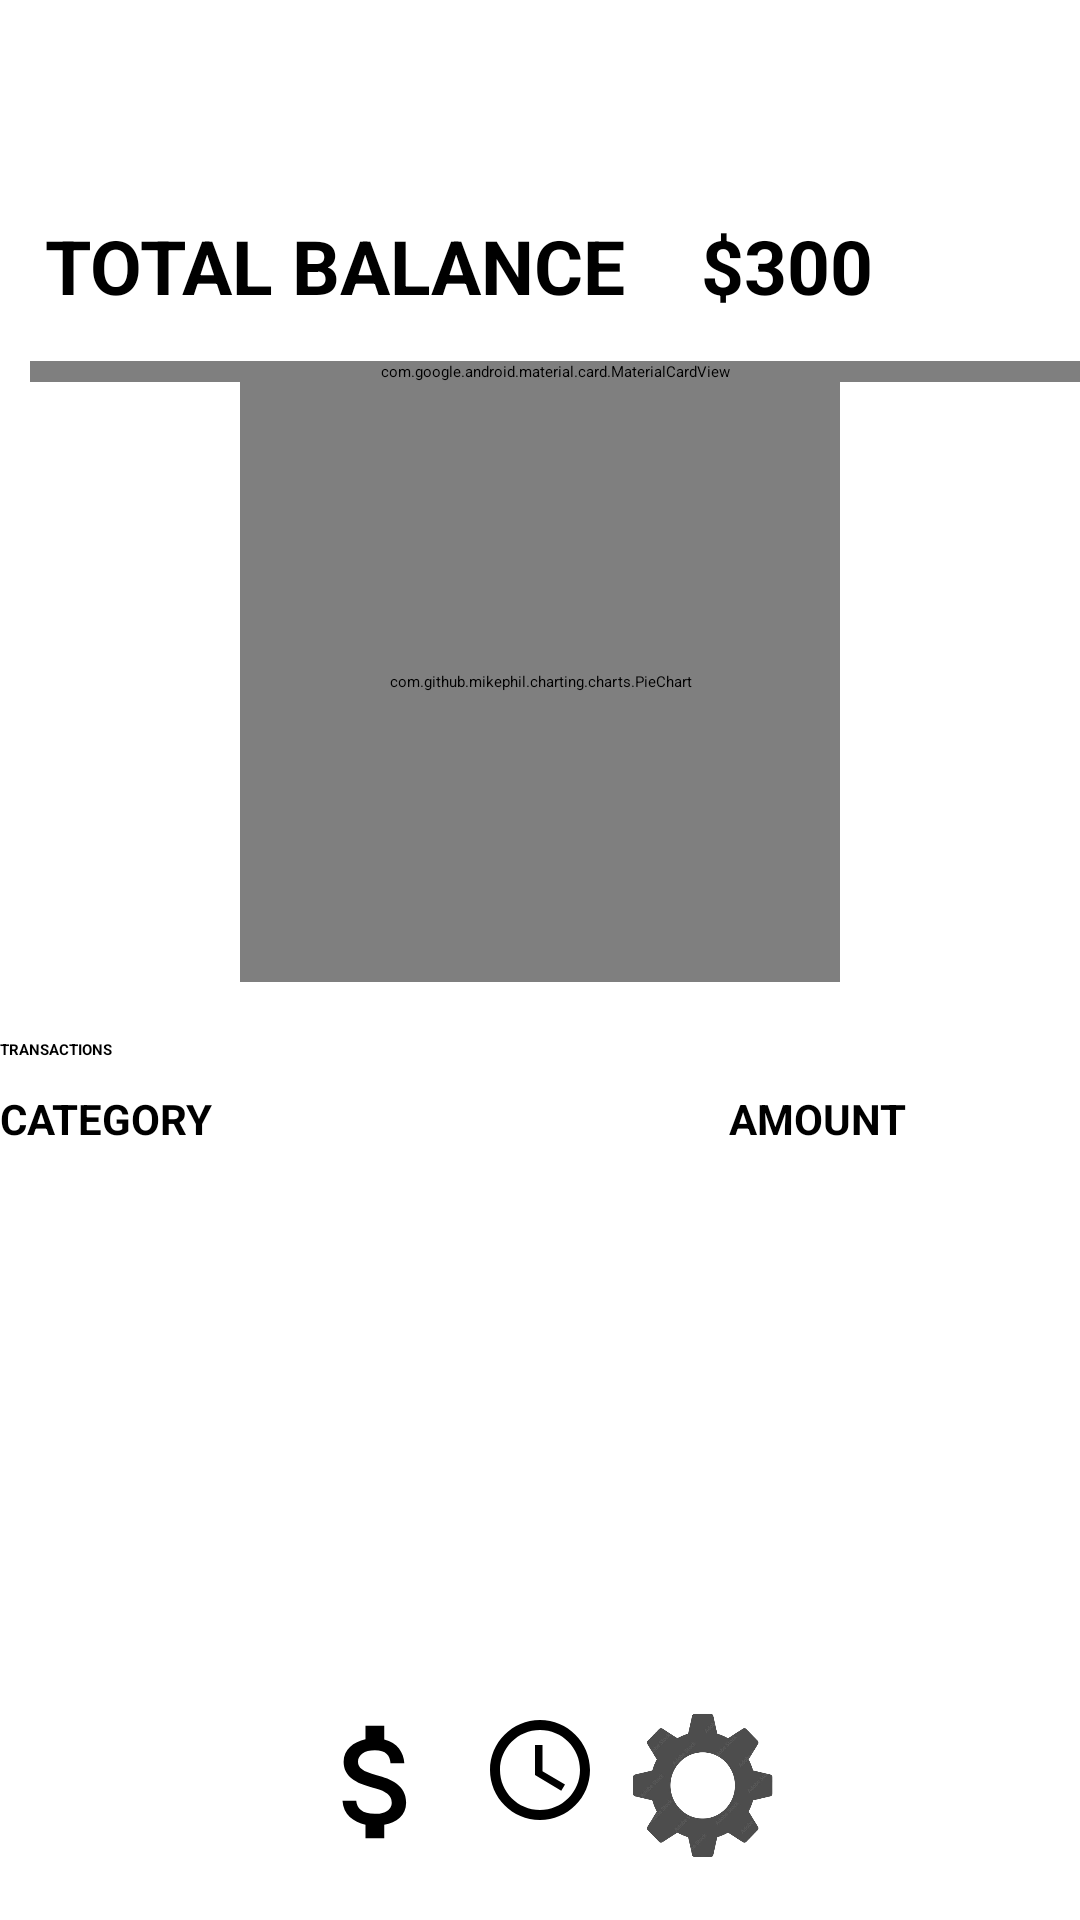

Where icons sit on this 1080*1920 app screen, as (x1, y1, x2, y2):
Budget: (342, 1725, 406, 1839)
History: (490, 1720, 590, 1820)
Settings: (633, 1714, 773, 1857)
